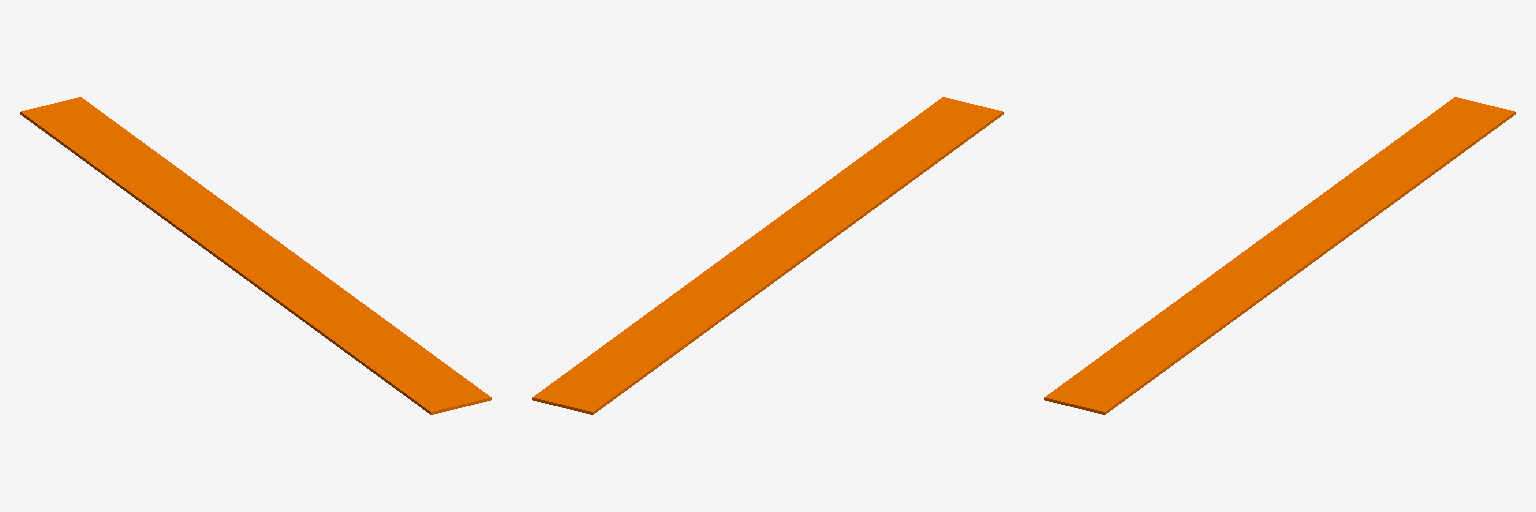
robot.urdf — ypaddle2D:
<robot name="ypaddle2D">
    
  <link name="base_link">
    <inertial>
      <origin rpy="0 0 0" xyz="0 0 0"/>
       <mass value="0"/>
       <inertia ixx="0" ixy="0" ixz="0" iyy="0" iyz="0" izz="0"/>
    </inertial>
  </link>

  <link name="x_link">
    <inertial>
      <origin rpy="0 0 0" xyz="0 0 0"/>
       <mass value="0.0001"/>
       <inertia ixx="0.0001" ixy="0" ixz="0" iyy="0.0001" iyz="0" izz="0.0001"/>
    </inertial>
  </link>


  <link name="y_link">
    <inertial>
      <origin rpy="0 0 0" xyz="0 0 0"/>
       <mass value="0.0001"/>
       <inertia ixx="0.0001" ixy="0" ixz="0" iyy="0.0001" iyz="0" izz="0.0001"/>
    </inertial>
  </link>


  <link name="theta_link">
    <inertial>
      <origin rpy="0 0 0" xyz="0 0 0"/>
       <mass value="1.0"/>
       <inertia ixx="0.0001" ixy="0" ixz="0" iyy="0.0001" iyz="0" izz="0.0001"/>
    </inertial>

    <visual>
      <origin rpy="0 0 0" xyz="0 0 0"/>
      <geometry>
        <box size="4.25 50 0.2" />      
      </geometry>
      <material name="white">
        <color rgba="1 0.5 0 1"/>
      </material>
    </visual>
    
    <collision>
      <origin rpy="0 0 0" xyz="0 0 0"/>
      <geometry>
        <box size="4.25 50 0.2" />
      </geometry>
    </collision>
  </link>

  <joint name = "x_prismatic" type = "prismatic">
    <origin xyz = "0.0 0.0 0.0" rpy = "0 0 0"/> 
    <parent link = "base_link"/>
    <child link= "x_link"/>
    <axis xyz = "1 0 0"/>
    <limit effort="1.0" lower="-10000" upper="10000" velocity="10000" />
    <dynamics damping = "0.0" friction="0.0" />
  </joint>

  <joint name = "y_prismatic" type = "prismatic">
    <origin xyz = "0.0 0.0 0.0" rpy = "0 0 0"/> 
    <parent link = "x_link" />
    <child link= "y_link"/>
    <axis xyz = "0 1 0" />
    <limit effort="1.0" lower="-10000" upper="10000" velocity="10000" />
    <dynamics damping = "0.0" friction="0.0" />
  </joint>

   <joint name = "theta_revolute" type = "revolute">
    <origin xyz = "0.0 0.0 0.0" rpy = "0 0 0"/> 
    <parent link = "y_link" />
    <child link= "theta_link"/>
    <axis xyz = "0 0 1" />
    <limit effort="1.0" lower="-10000" upper="10000" velocity="10000" />
    <dynamics damping = "0.0" friction="0.0" />
  </joint>

    
</robot>

--- Render facts (derived) ---
The picture shows the robot from 3 angles, left to right: view 1: azimuth 30°, elevation 25°; view 2: azimuth 150°, elevation 25°; view 3: azimuth 330°, elevation 25°; orthographic projection.
Robot: ypaddle2D — 4 links, 3 joints (1 revolute, 2 prismatic); root link base_link; default pose: all joints at 0.
Visible links, largest first — view 1: theta_link; view 2: theta_link; view 3: theta_link.
Link boxes in pixels (x1=…): theta_link: x1=20, y1=97, x2=491, y2=414; theta_link: x1=532, y1=97, x2=1003, y2=414; theta_link: x1=1044, y1=97, x2=1515, y2=414.
Size in the robot's own frame: 4.25 by 50 by 0.2 metres.
Geometry: primitives only (box / cylinder / sphere), no mesh files.